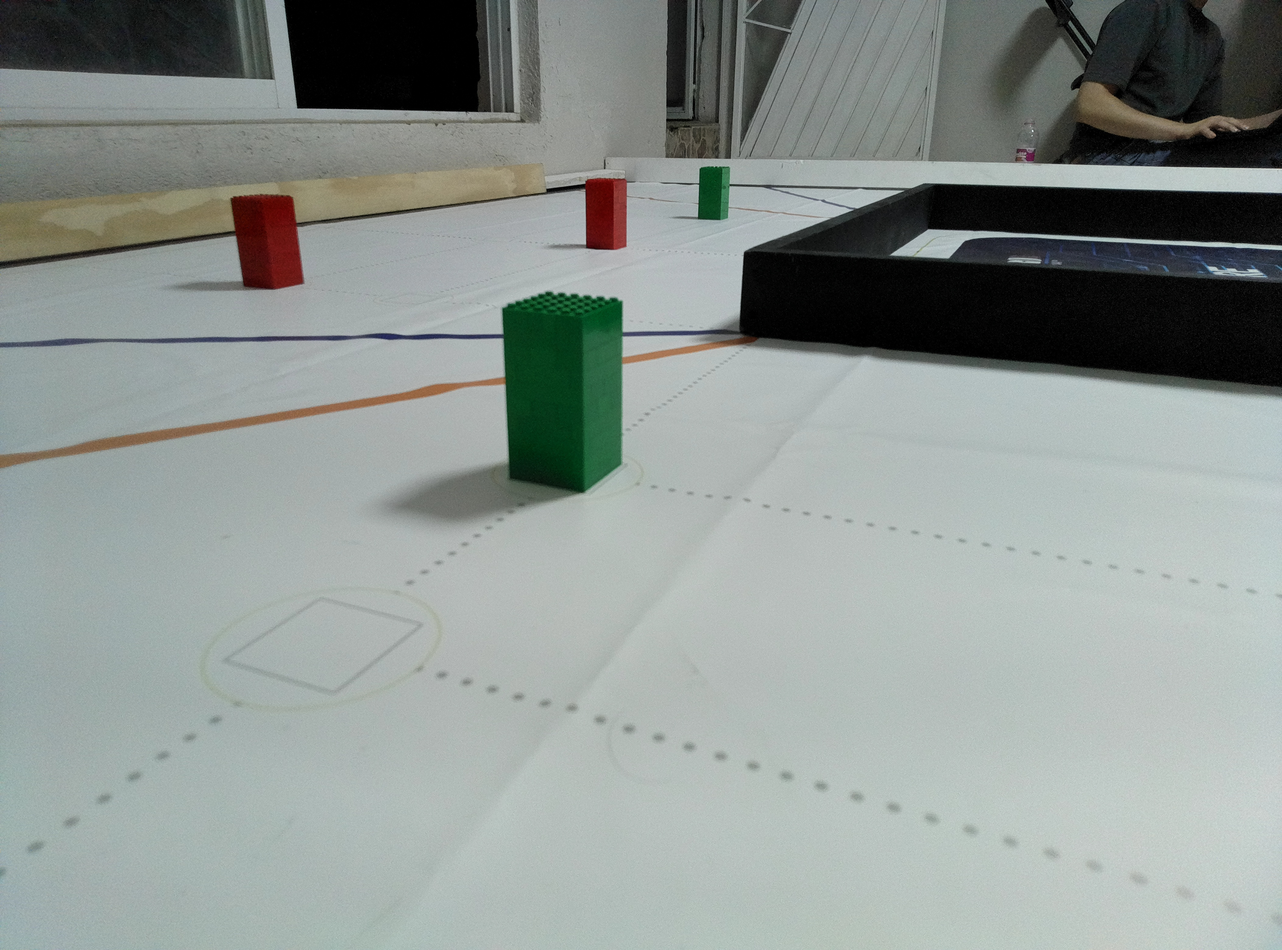greenbox: (500, 291, 624, 494), (697, 166, 730, 220)
redbox: (229, 194, 305, 290), (585, 178, 627, 250)
